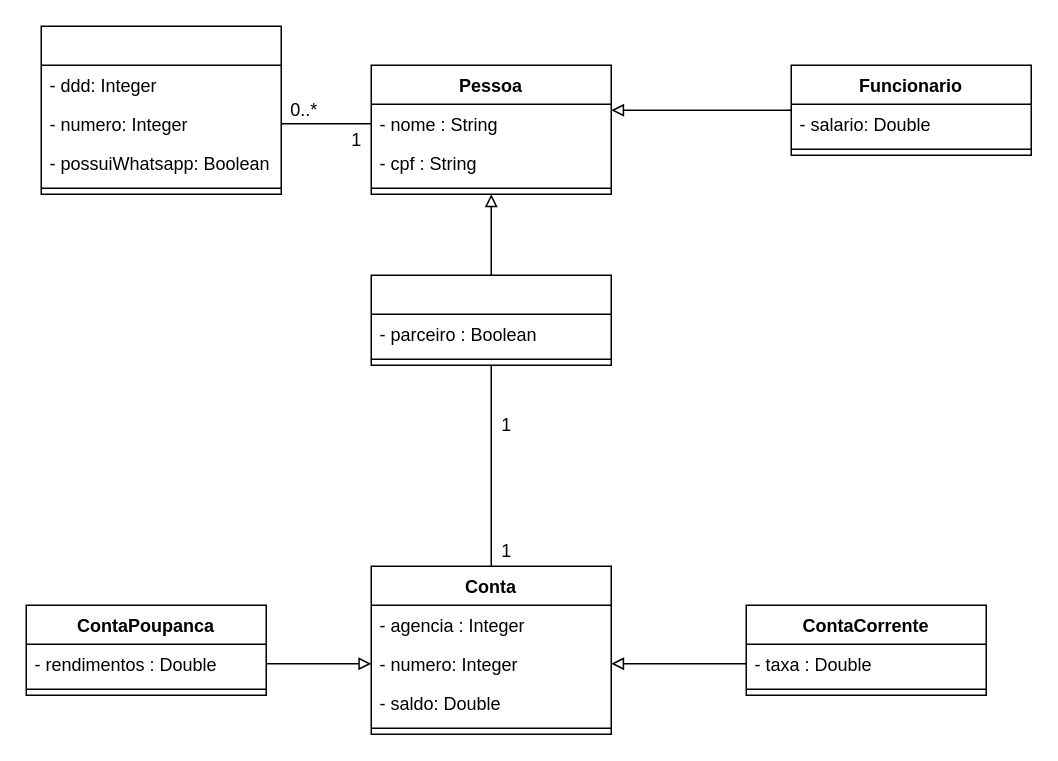
Some shapes in this 1058 by 761 pixel diagram are drawn without their labels. The shapes that lost their labels are listed below. From the top down, each one's box as (x1, y1, x2, y2) in pixels, then its label:
(40, 25, 281, 194): Telefone
(370, 274, 611, 365): Cliente
